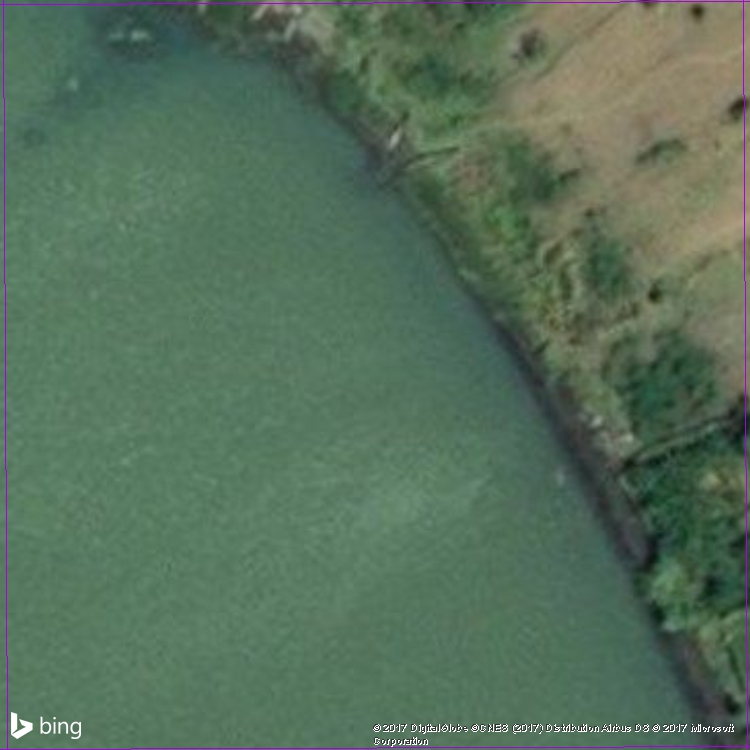boat: (385, 144, 474, 189), (362, 103, 414, 171)
